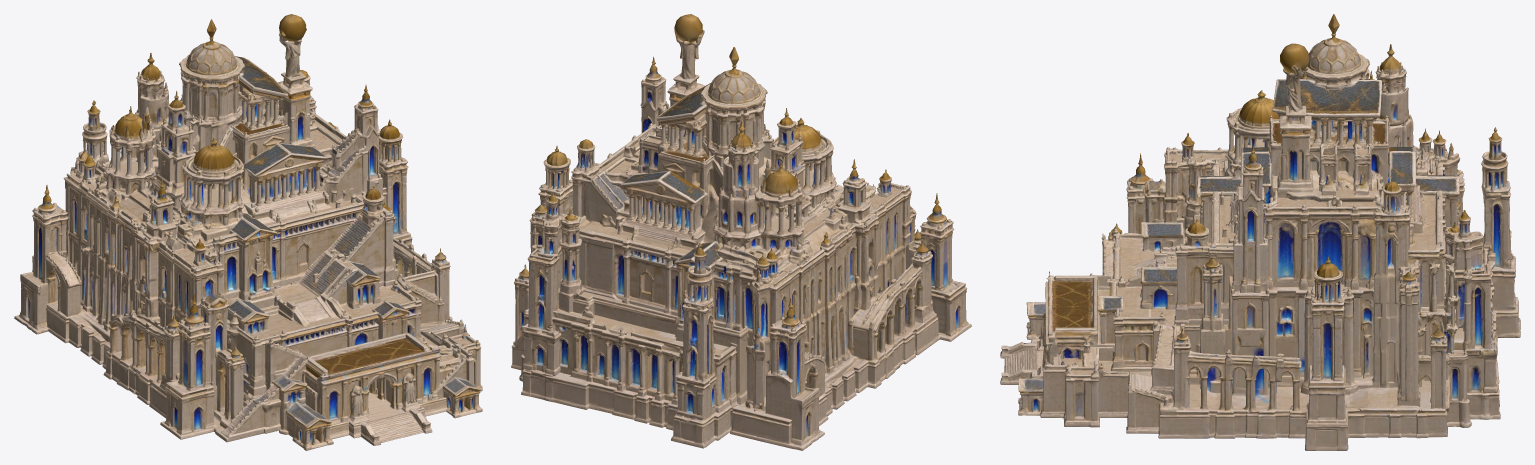
The model's file is kollema.glb.
3 views of the same model, side by side, from view 1: azimuth 30°, elevation 25°; view 2: azimuth 150°, elevation 25°; view 3: azimuth 270°, elevation 25° (orthographic). The views are drawn at different scales.
Bounding box in the file's own units: 1.46 × 1.37 × 1.9.
Materials: 1 (1 with a texture image).
